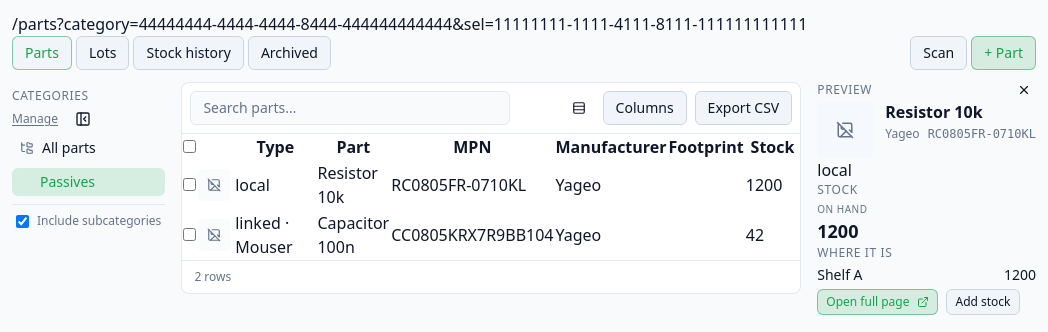
parts list preview pane › clearing the category keeps the preview selection
This screenshot has width=1048, height=332.
Expected: the element with test id "part-preview-pane" is shown, [817,82,1036,315]
Click the list item "Passives": point(89, 182) [12,168,165,196]
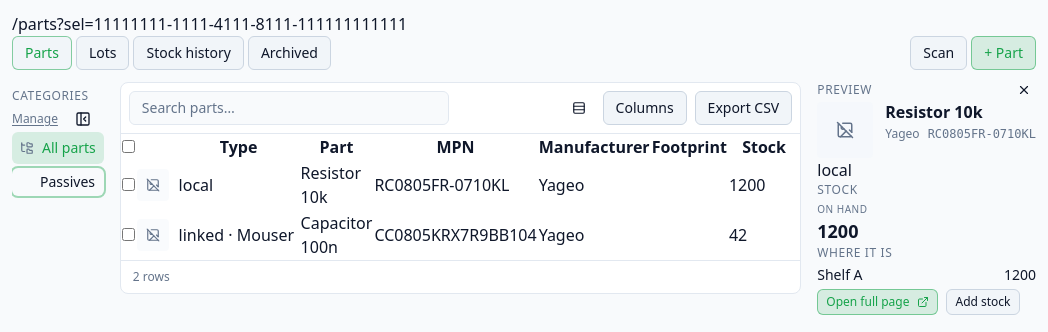
Expected: the text with test id "location" no longer shows "category="
